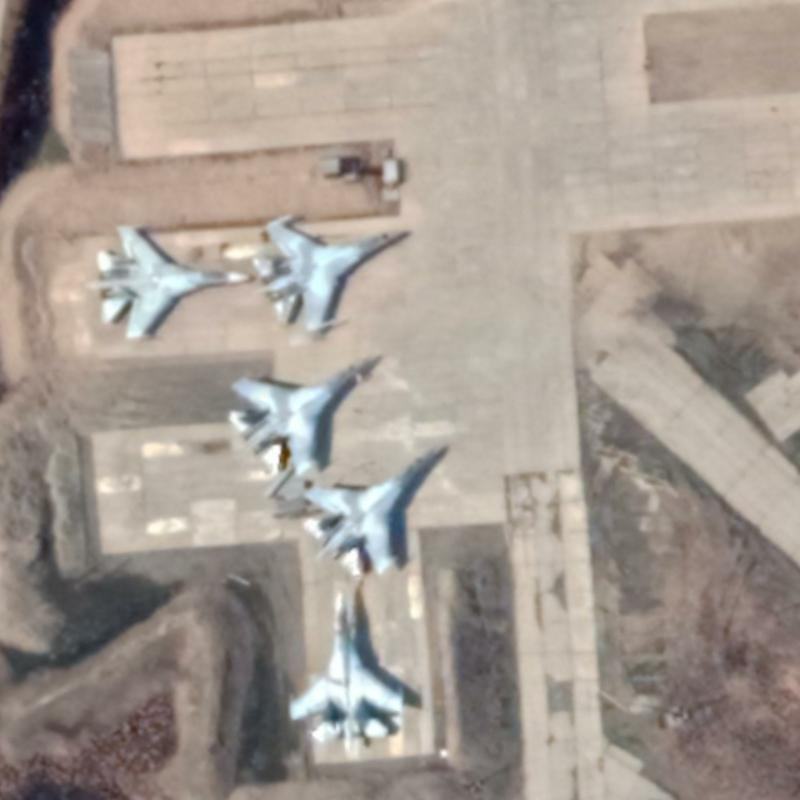A1: (285, 587, 407, 758), (297, 443, 449, 580), (248, 210, 413, 336), (82, 221, 254, 340), (227, 353, 384, 481)
